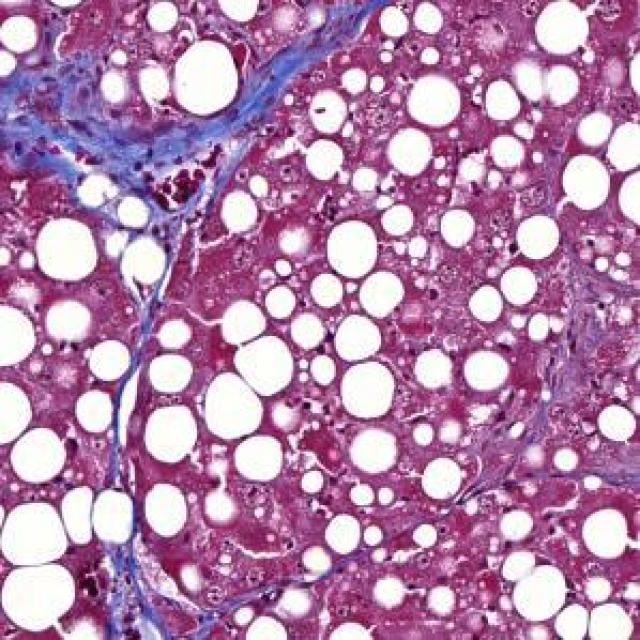fibrosis: (12, 79, 222, 197)
